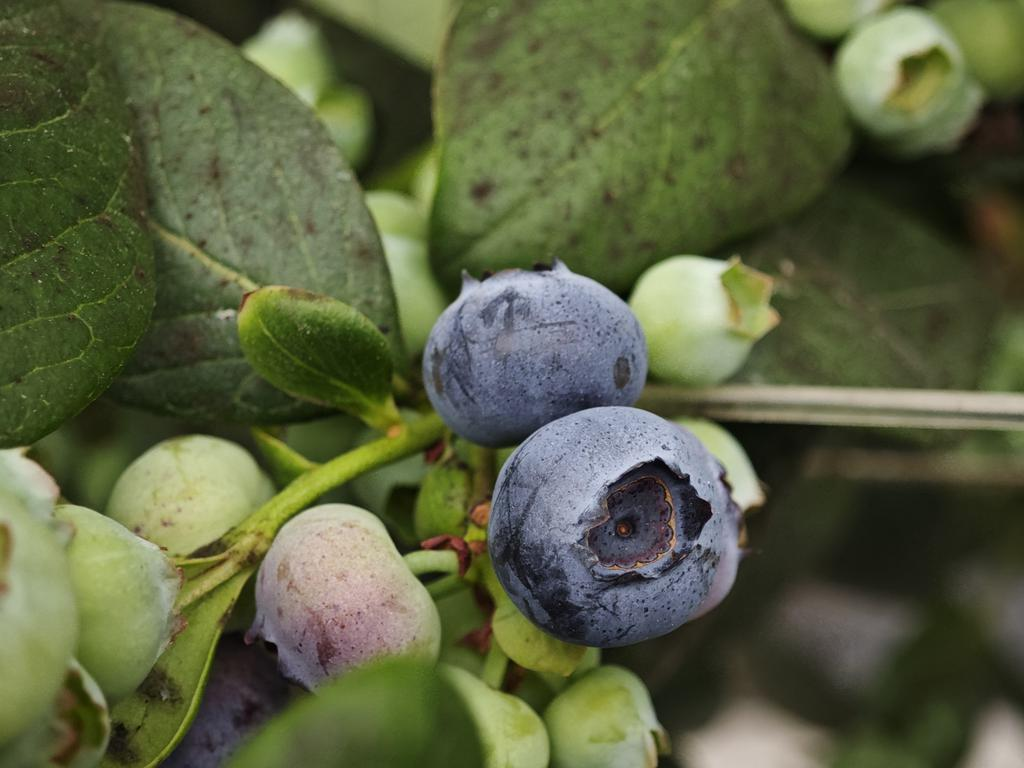RipeBlueBerry: (485, 399, 743, 649), (419, 255, 652, 448)
Semi-RipeBlueBerry: (247, 498, 448, 692)
